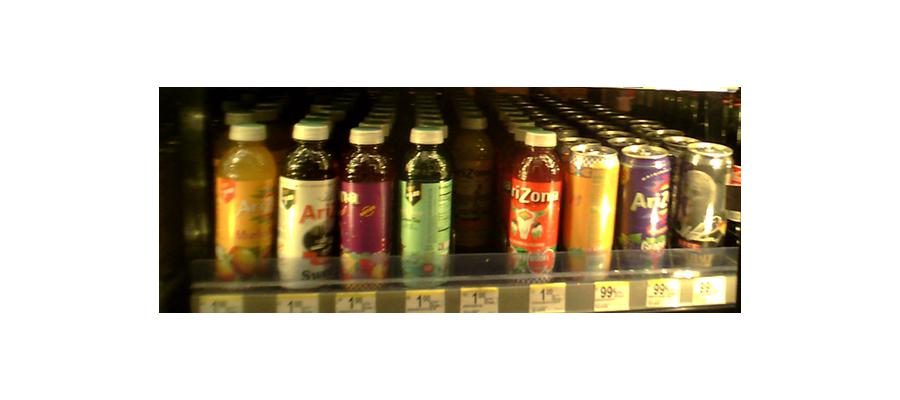bottle: (215, 118, 275, 284), (279, 116, 333, 286), (507, 120, 560, 281), (338, 126, 391, 283), (399, 123, 450, 282), (563, 135, 619, 277), (617, 142, 672, 271), (675, 137, 730, 266), (455, 116, 495, 257)
